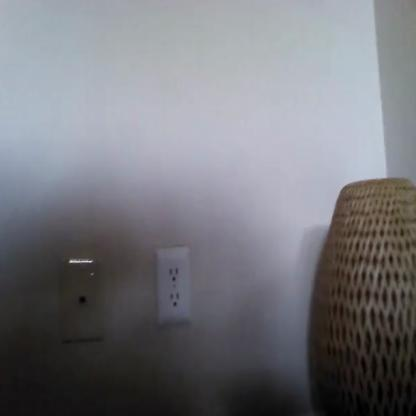OUTLET: (156, 246, 191, 321)
